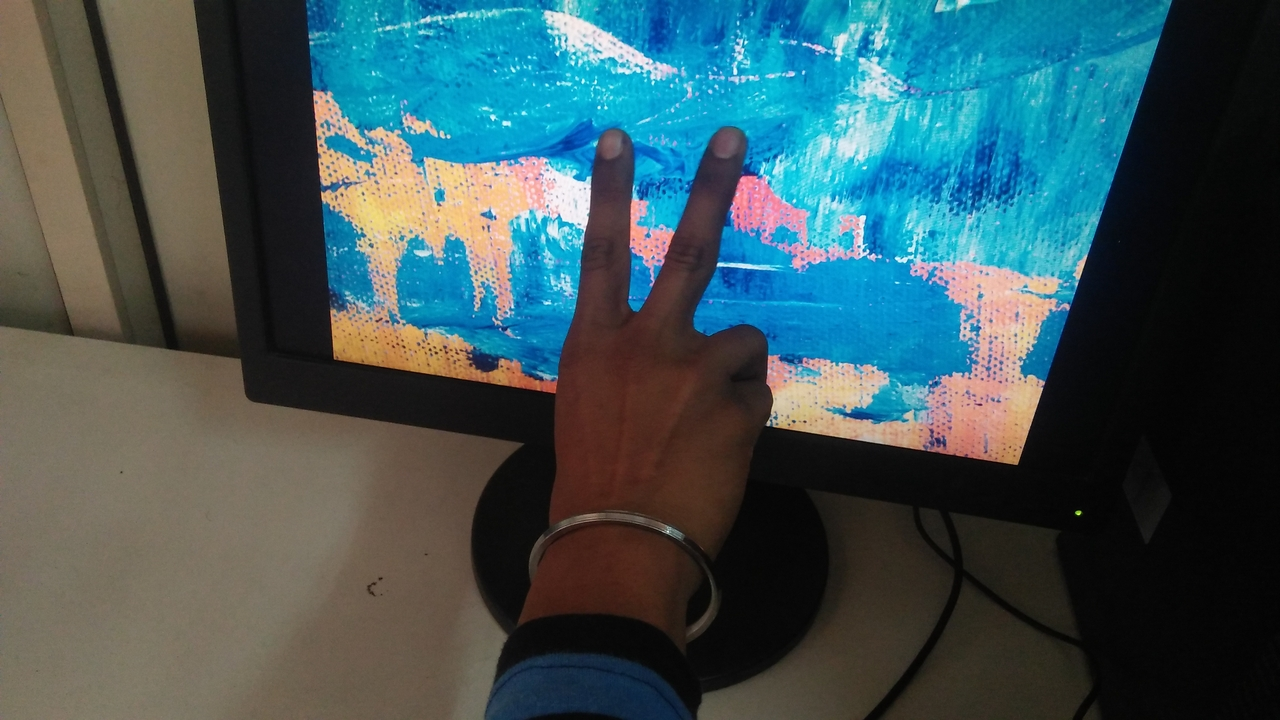fingertip: (696, 118, 754, 170), (588, 122, 642, 166)
